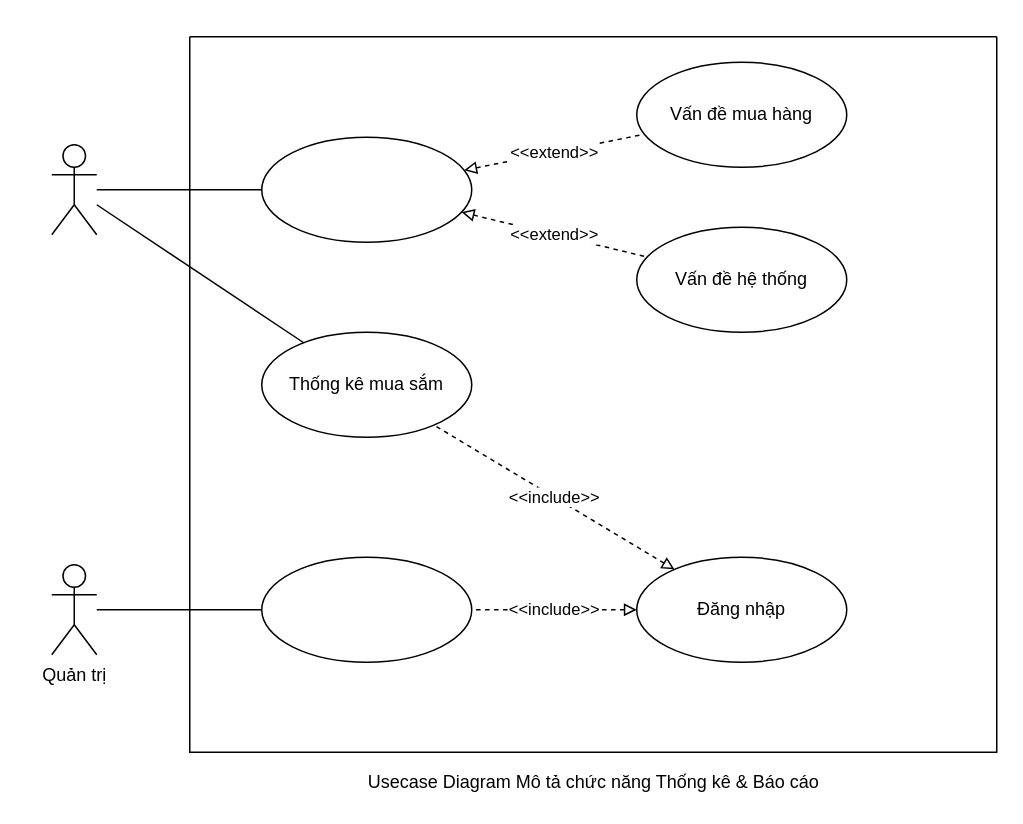
Some shapes in this 1023 by 824 pixel diagram are drawn without their labels. Here are the shapes that lost their labels. From the top down, the centre of each, then its label:
(73,189): Người dùng
(366,189): Báo cáo lỗi
(366,609): Báo cáo doanh thu cửa hàng
